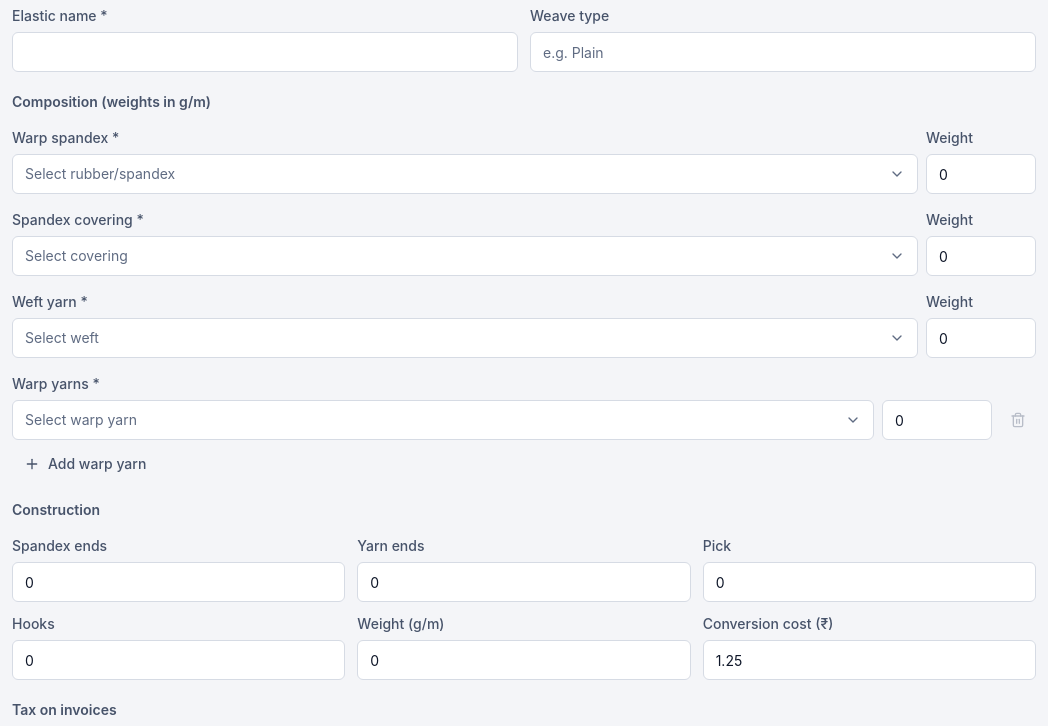
Scenario: the template's yarns follow the warp yarns chosen above › offers nothing until a warp yarn is chosen, then only that one
Click the button "Select warp yarn" at (81, 420), box [12,400,874,440]
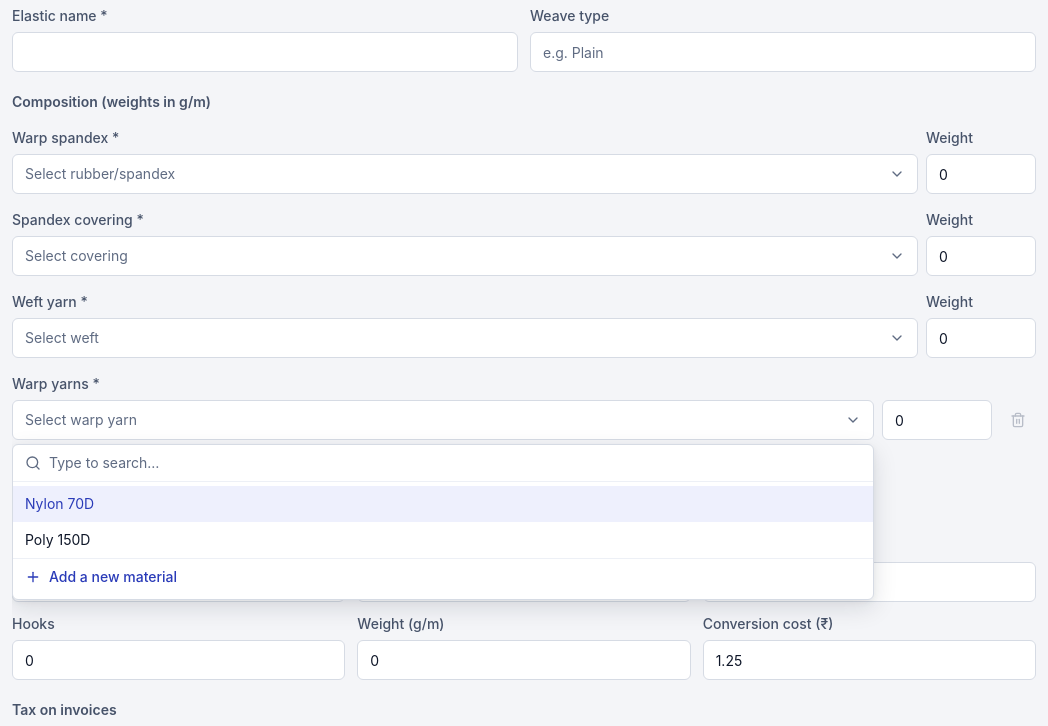
Click the option "Poly 150D" at (58, 540), box [13,522,873,558]
(page scrolled)
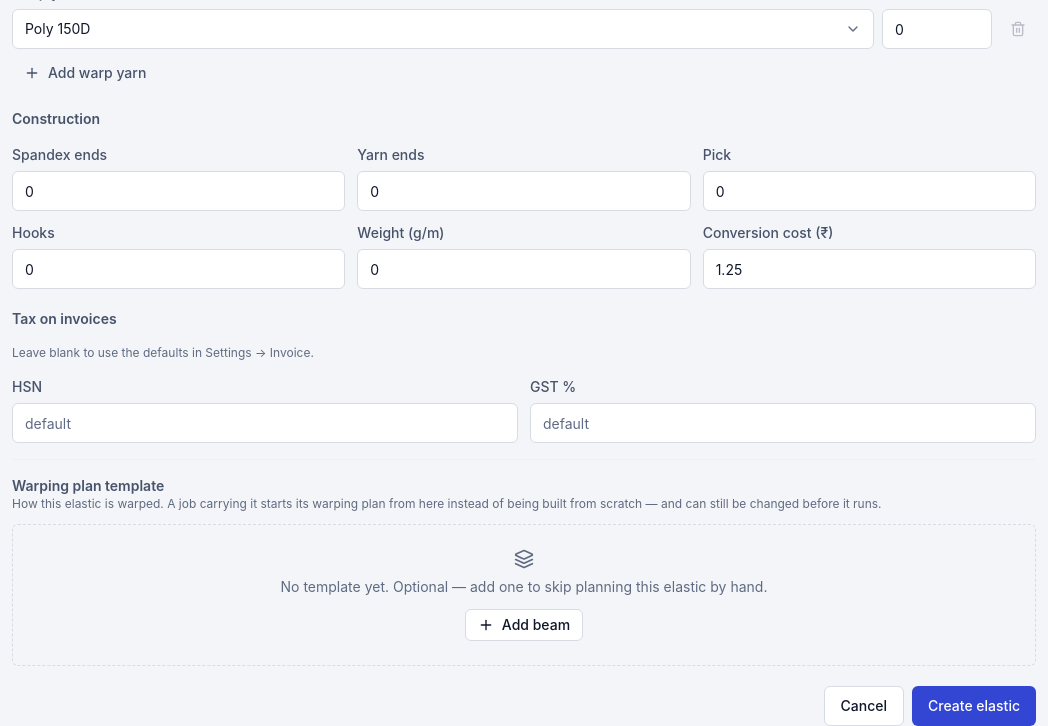
Click the button "Add beam" at (524, 625), box [465,609,583,641]
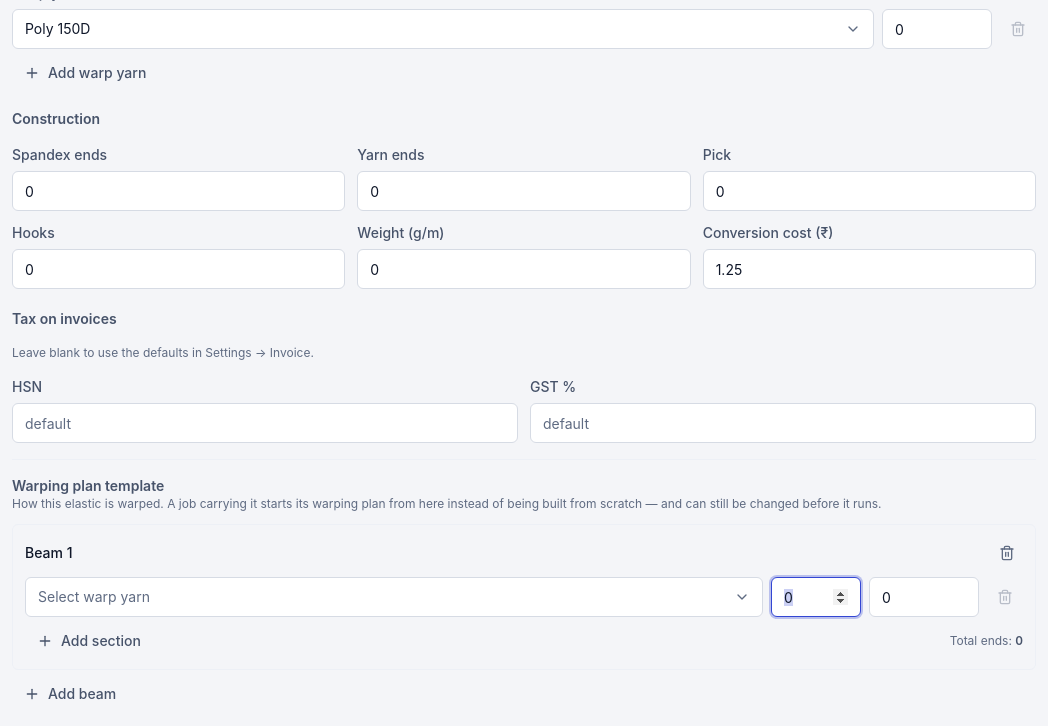
Click the button with aria-label "warp yarn for beam 1 section 1" at (94, 596), box [25,577,763,617]
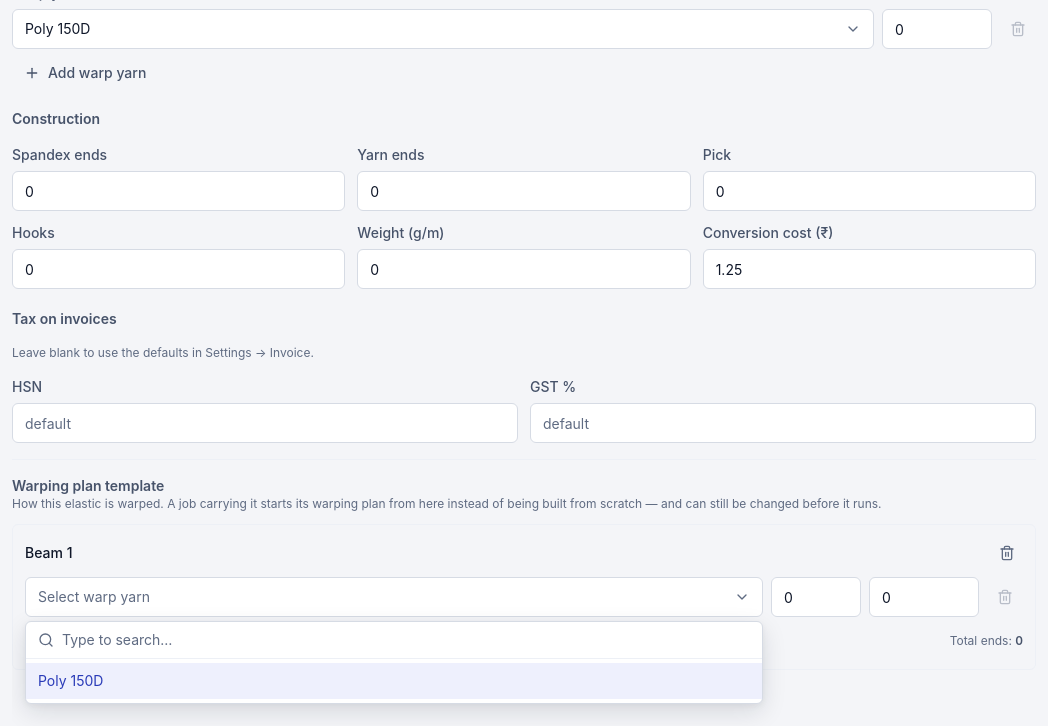
Expected: the options read "Poly 150D", in this order, [26,663,762,699]
